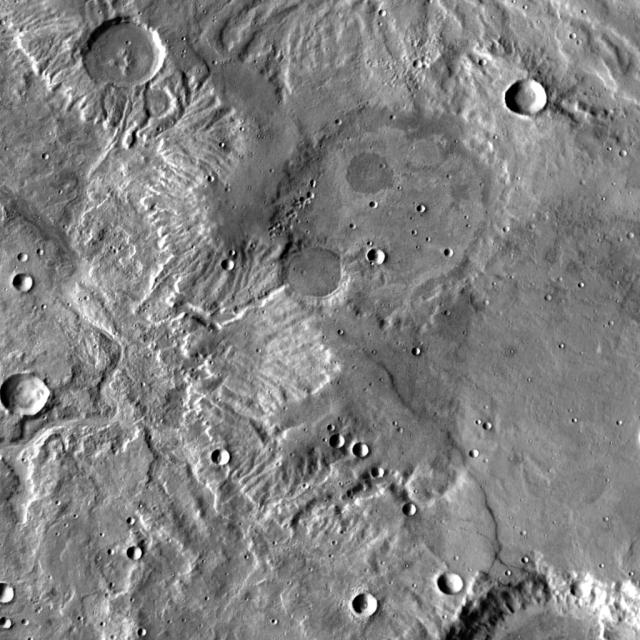crater: (280, 113, 511, 323), (84, 22, 164, 94), (281, 240, 356, 308), (2, 377, 49, 419), (508, 83, 548, 119), (144, 91, 177, 121), (438, 575, 464, 598), (353, 594, 378, 616), (572, 582, 592, 600), (0, 582, 16, 604), (212, 452, 231, 470), (13, 274, 32, 292), (368, 249, 386, 265), (354, 446, 370, 461), (126, 548, 142, 562), (330, 437, 346, 450), (404, 506, 417, 518), (374, 469, 387, 481), (222, 260, 234, 272), (0, 620, 12, 631), (414, 58, 425, 68), (17, 254, 28, 264), (479, 60, 489, 70), (471, 452, 481, 461), (444, 251, 454, 259), (412, 348, 422, 356), (620, 152, 628, 160), (486, 424, 494, 432), (126, 518, 134, 526), (138, 630, 146, 638), (370, 201, 379, 208), (418, 205, 426, 212), (546, 297, 554, 304), (309, 193, 317, 200), (22, 621, 30, 628), (329, 426, 336, 433), (621, 228, 628, 234), (44, 152, 51, 158), (36, 250, 43, 256), (294, 192, 301, 198), (107, 550, 114, 556), (564, 28, 570, 34)
